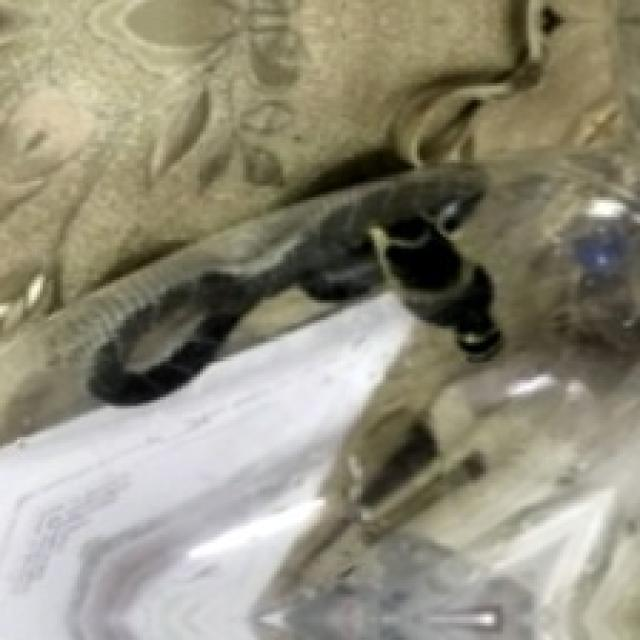king cobra: (2, 1, 541, 442)
